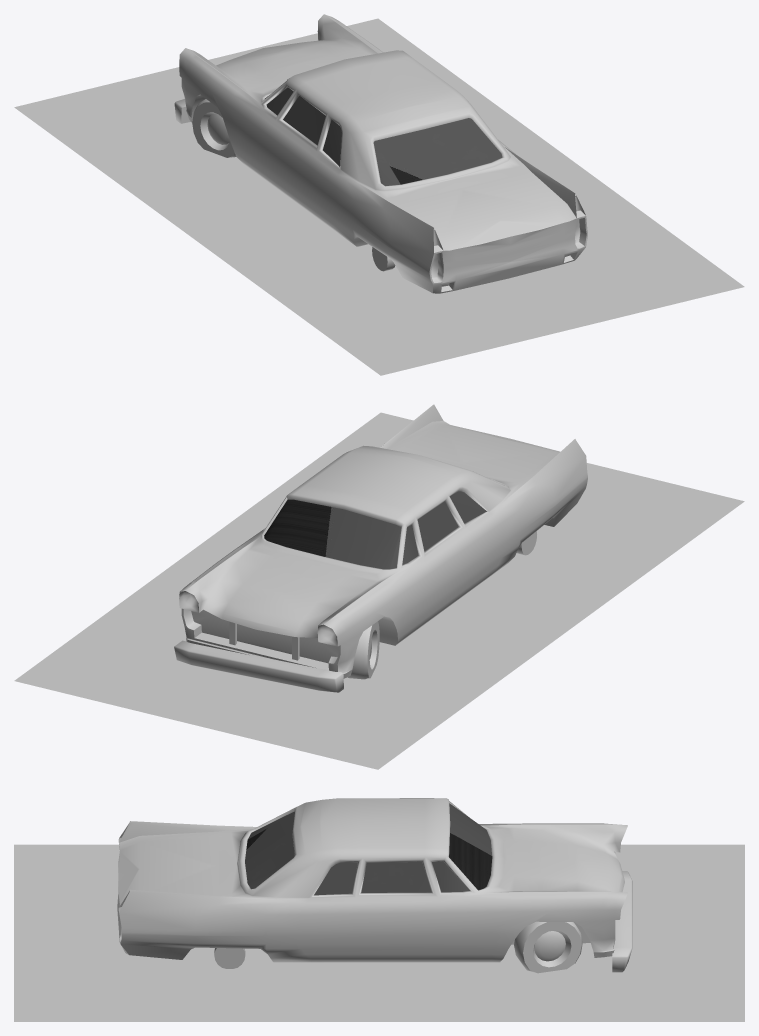
File: coupe.FBX
The picture shows the model from 3 angles, top to bottom: view 1: azimuth 30°, elevation 25°; view 2: azimuth 150°, elevation 25°; view 3: azimuth 270°, elevation 25°; orthographic projection.
Visible parts, largest first — view 1: Plane001, Cylinder001, Object001; view 2: Plane001, Cylinder001, Object001; view 3: Plane001, Cylinder001, Object001.
Part boxes in pixels (x1,y1,x2,y2): Plane001: [14, 18, 744, 375]; Cylinder001: [174, 14, 587, 293]; Object001: [265, 87, 502, 185]; Plane001: [14, 412, 744, 769]; Cylinder001: [174, 404, 587, 692]; Object001: [264, 491, 487, 569]; Plane001: [14, 844, 744, 1021]; Cylinder001: [117, 798, 632, 973]; Object001: [245, 803, 492, 895].
Bounding box in the file's own units: 173 × 51.53 × 302.
